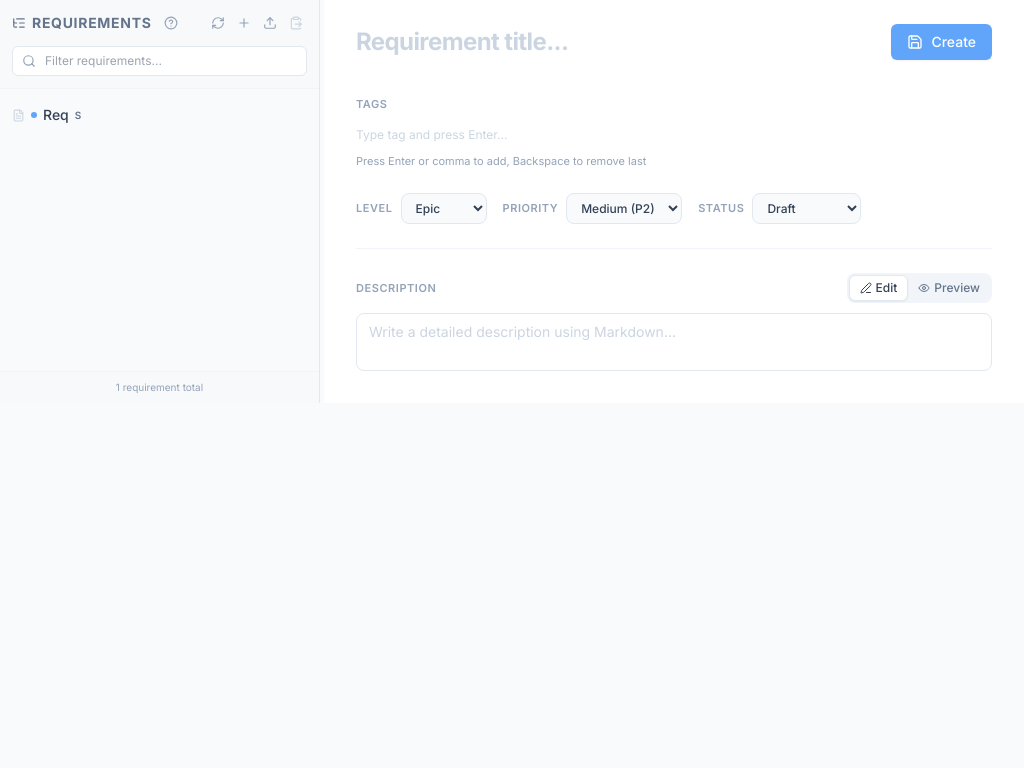
Test case: RequirementsPage › opens import modal when import clicked
The image size is (1024, 768).
Check: the text "Req" is shown, box [43, 105, 69, 125]
Click the button titled "Import Requirements" at (270, 23), box [259, 12, 281, 34]
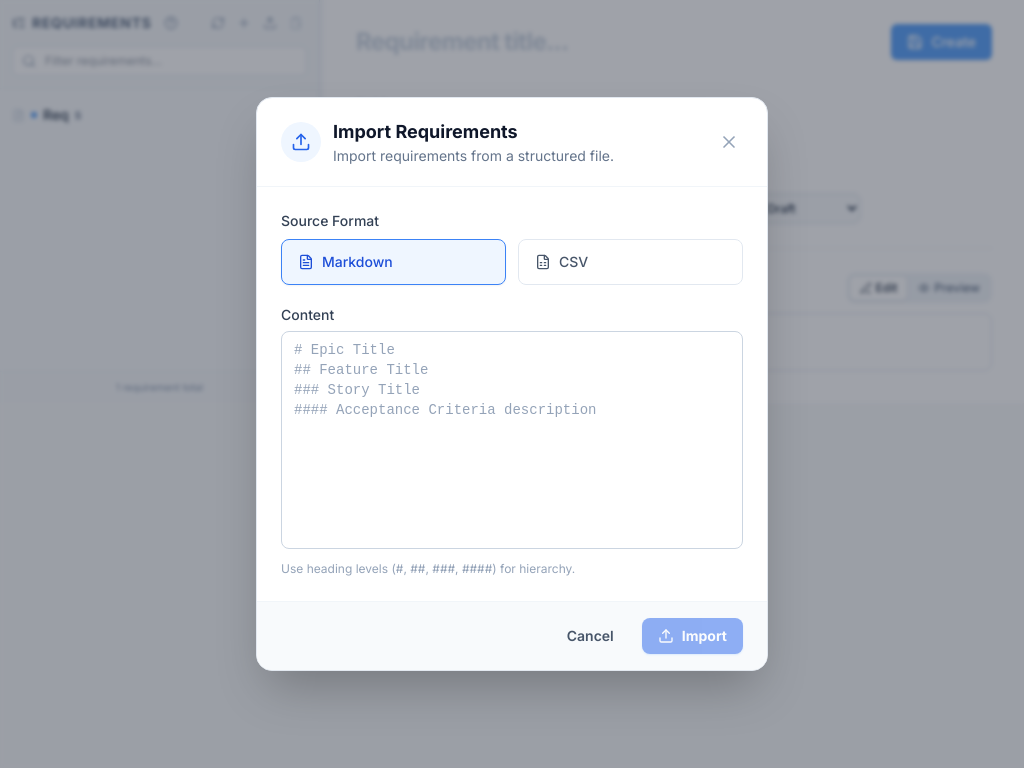
Check: the heading "Import Requirements" is shown, box [333, 121, 518, 142]
